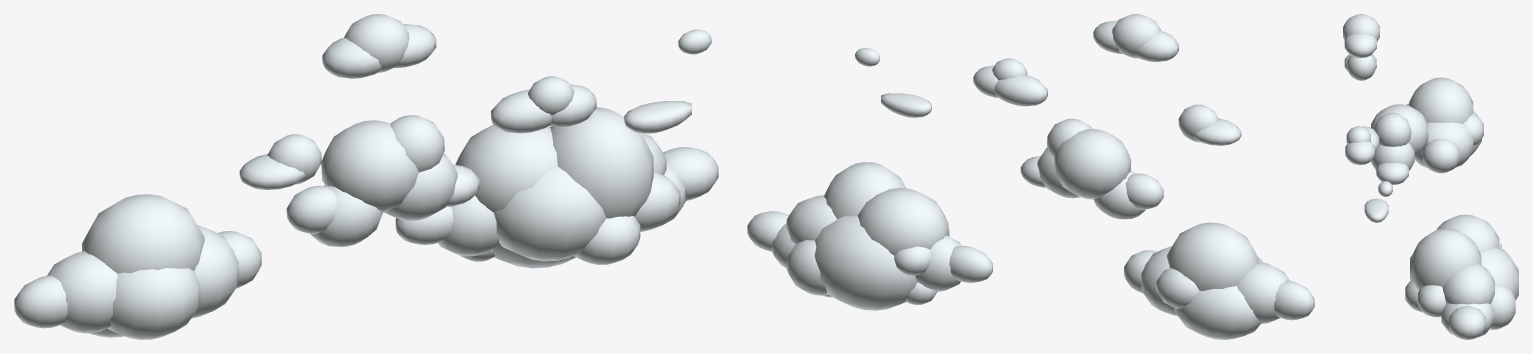
Rendered from Clouds_model (2).gltf.
3 views of the same model, side by side, from view 1: azimuth 30°, elevation 25°; view 2: azimuth 150°, elevation 25°; view 3: azimuth 270°, elevation 25° (orthographic). The views are drawn at different scales.
Visible parts, largest first — view 1: sphere (×8); view 2: sphere (×7); view 3: sphere (×8).
Part boxes in pixels (x1=…): sphere (×8): x1=14, y1=14, x2=718, y2=339; sphere (×7): x1=747, y1=14, x2=1314, y2=339; sphere (×8): x1=1343, y1=14, x2=1518, y2=339.
Size of the model in its own units: 9.07 by 4.52 by 3.17.
Materials: 1 (1 with a texture image).
